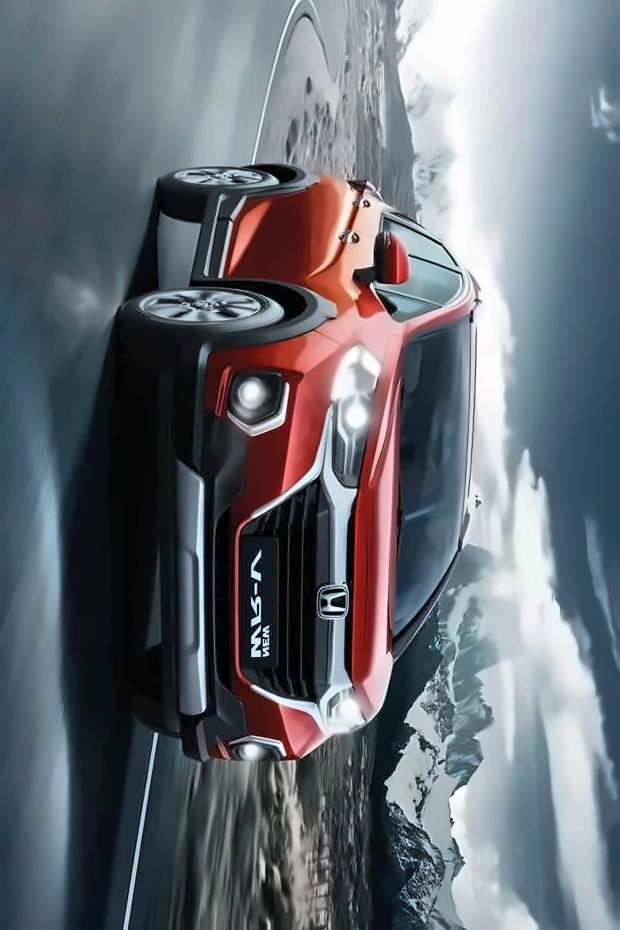Car hood: (348, 335, 398, 727)
Driver-s door - -F-R-: (211, 225, 468, 296)
Fender - -F-L-: (193, 275, 421, 353)
Front bumper: (151, 330, 325, 772)
Headlight - -L-: (311, 673, 374, 746)
Headlight - -R-: (325, 335, 387, 491)
Passenger-s door - -R-R-: (219, 190, 465, 263)
Rear light - -R-: (341, 164, 393, 202)
Side bumper - -R-: (185, 178, 249, 296)
Side mirror - -R-: (345, 228, 417, 297)
